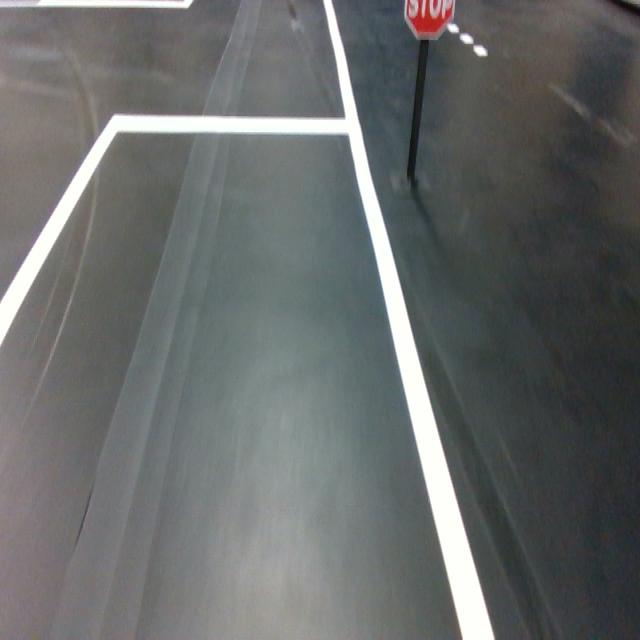stop-sign: (403, 0, 455, 41)
